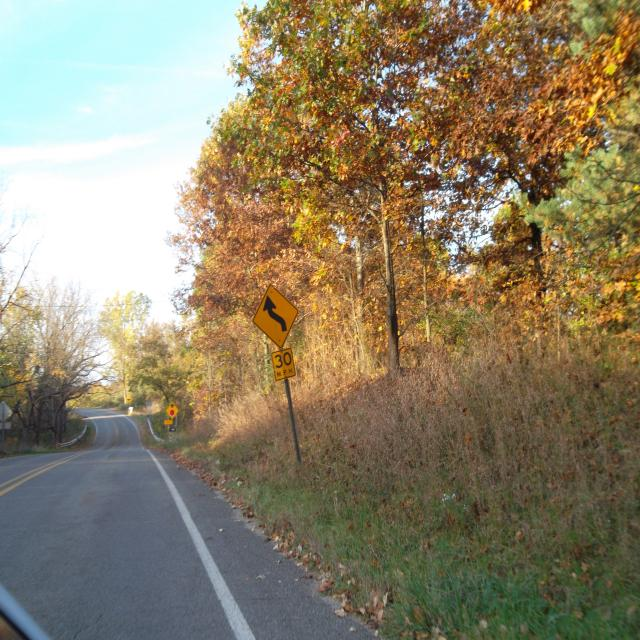stop: (170, 409, 174, 417)
warning: (253, 285, 300, 347), (268, 350, 300, 380), (166, 399, 178, 420), (164, 418, 174, 426), (126, 398, 132, 403)
